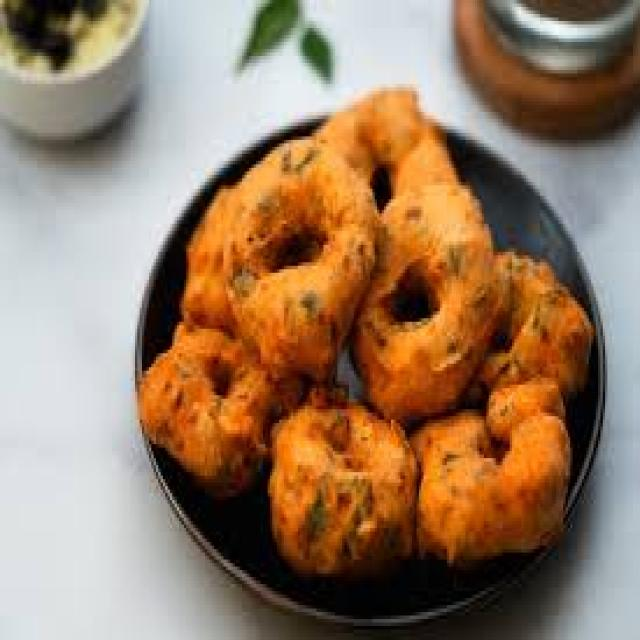MEDU VADA: (220, 135, 385, 381), (351, 186, 503, 425), (416, 379, 572, 557), (273, 391, 416, 566), (141, 323, 270, 476)
